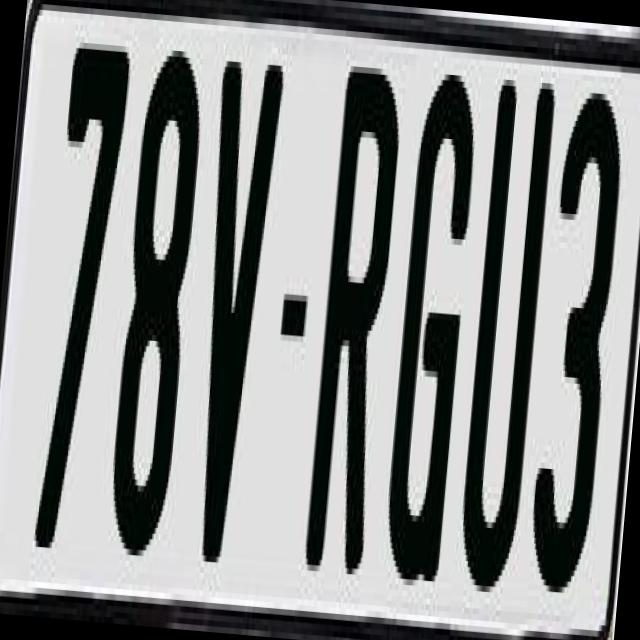3: (523, 73, 630, 577)
7: (24, 41, 130, 562)
8: (100, 48, 203, 563)
G: (374, 72, 478, 604)
R: (302, 53, 406, 580)
U: (450, 79, 558, 606)
V: (176, 42, 284, 576)
